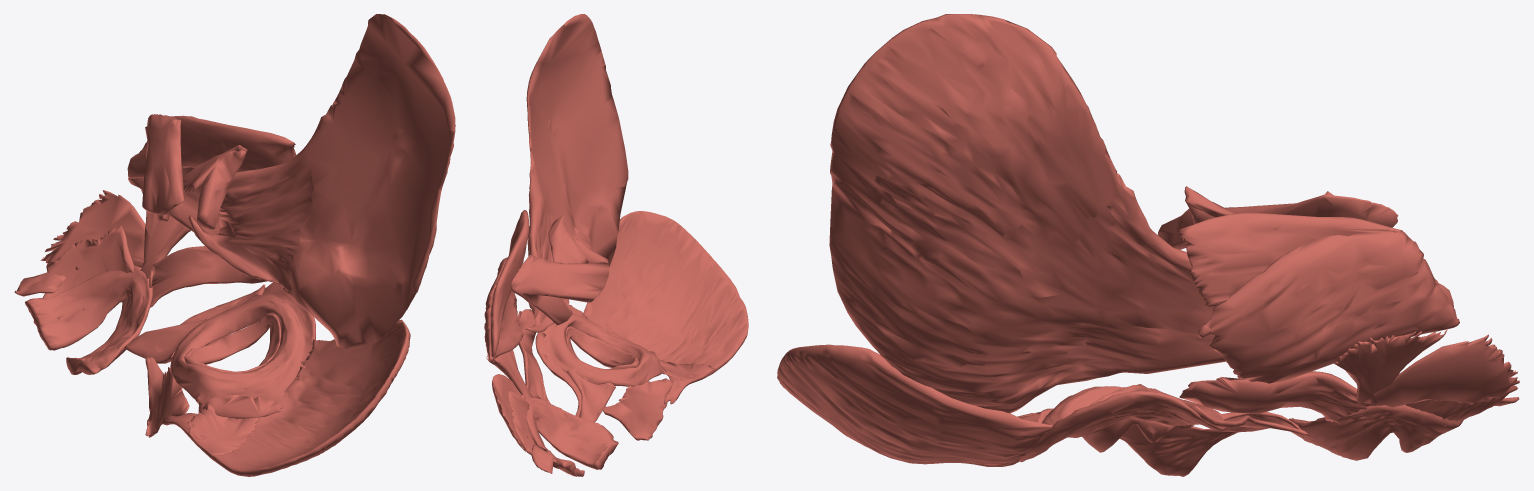
File: facem.glb
3 views of the same model, side by side, from view 1: azimuth 30°, elevation 25°; view 2: azimuth 150°, elevation 25°; view 3: azimuth 270°, elevation 25° (orthographic). The views are drawn at different scales.
Visible parts, largest first — view 1: left temporalis, left frontalis, left orbital part of orbicularis oculi, left orbicularis oris, left deep part of masseter, left medial pterygoid, left depressor anguli oris, left zygomaticus major, left depressor labii inferioris, left palpebral part of orbicularis oculi, left nasalis, left superior head of lateral pterygoid (+8 smaller); view 2: left temporalis, left frontalis, left medial pterygoid, left orbicularis oris, left orbital part of orbicularis oculi, left nasalis, left deep part of masseter, left superficial part of masseter, left palpebral part of orbicularis oculi, left zygomaticus major, left levator labii superioris, left inferior head of lateral pterygoid (+7 smaller); view 3: left temporalis, left superficial part of masseter, left frontalis, left deep part of masseter, left depressor anguli oris, left orbital part of orbicularis oculi, left zygomaticus major, left orbicularis oris, left risorius, left nasalis, left medial pterygoid, left palpebral part of orbicularis oculi (+4 smaller).
Part boxes in pixels (x1,y1,x2,y2): left temporalis: (188,14,455,349); left frontalis: (187,319,410,476); left orbital part of orbicularis oculi: (170,282,315,404); left orbicularis oris: (25,265,152,374); left deep part of masseter: (127,115,296,178); left medial pterygoid: (142,114,184,221); left depressor anguli oris: (40,190,153,287); left zygomaticus major: (132,246,267,307); left depressor labii inferioris: (42,225,133,319); left palpebral part of orbicularis oculi: (184,313,280,372); left nasalis: (145,357,189,437); left superior head of lateral pterygoid: (197,150,246,229); left temporalis: (525,14,628,332); left frontalis: (583,211,748,380); left medial pterygoid: (510,254,609,325); left orbicularis oris: (525,397,618,476); left orbital part of orbicularis oculi: (542,304,663,386); left nasalis: (602,378,673,440); left deep part of masseter: (490,210,529,357); left superficial part of masseter: (484,257,523,362); left palpebral part of orbicularis oculi: (566,326,639,369); left zygomaticus major: (518,309,550,403); left levator labii superioris: (566,367,615,422); left inferior head of lateral pterygoid: (548,215,588,263); left temporalis: (829,14,1226,413); left superficial part of masseter: (1198,229,1459,383); left frontalis: (777,344,1052,466); left deep part of masseter: (1179,212,1453,307); left depressor anguli oris: (1369,334,1519,407); left orbital part of orbicularis oculi: (1019,386,1227,462); left zygomaticus major: (1179,371,1372,424); left orbicularis oris: (1289,404,1463,460); left risorius: (1334,328,1447,406); left nasalis: (1119,424,1237,476); left medial pterygoid: (1225,191,1398,227); left palpebral part of orbicularis oculi: (1082,384,1175,452).
Size of the model in its own units: 76.84 by 151 by 176.
